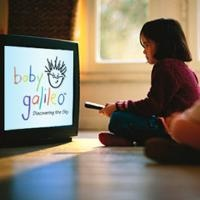person without safety: (132, 16, 194, 96)
